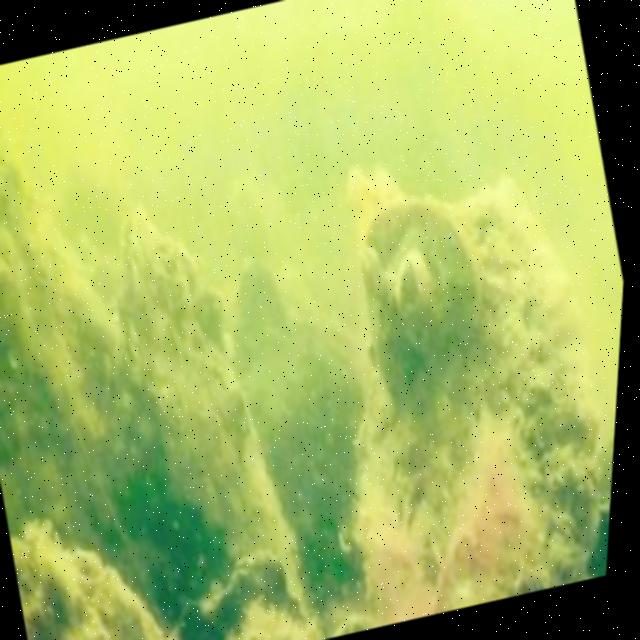Oyster-Closed: (287, 336, 366, 452)
Oyster-Indeterminate: (358, 187, 595, 630), (91, 210, 286, 577), (362, 198, 481, 403), (10, 532, 159, 640), (232, 256, 287, 352)
